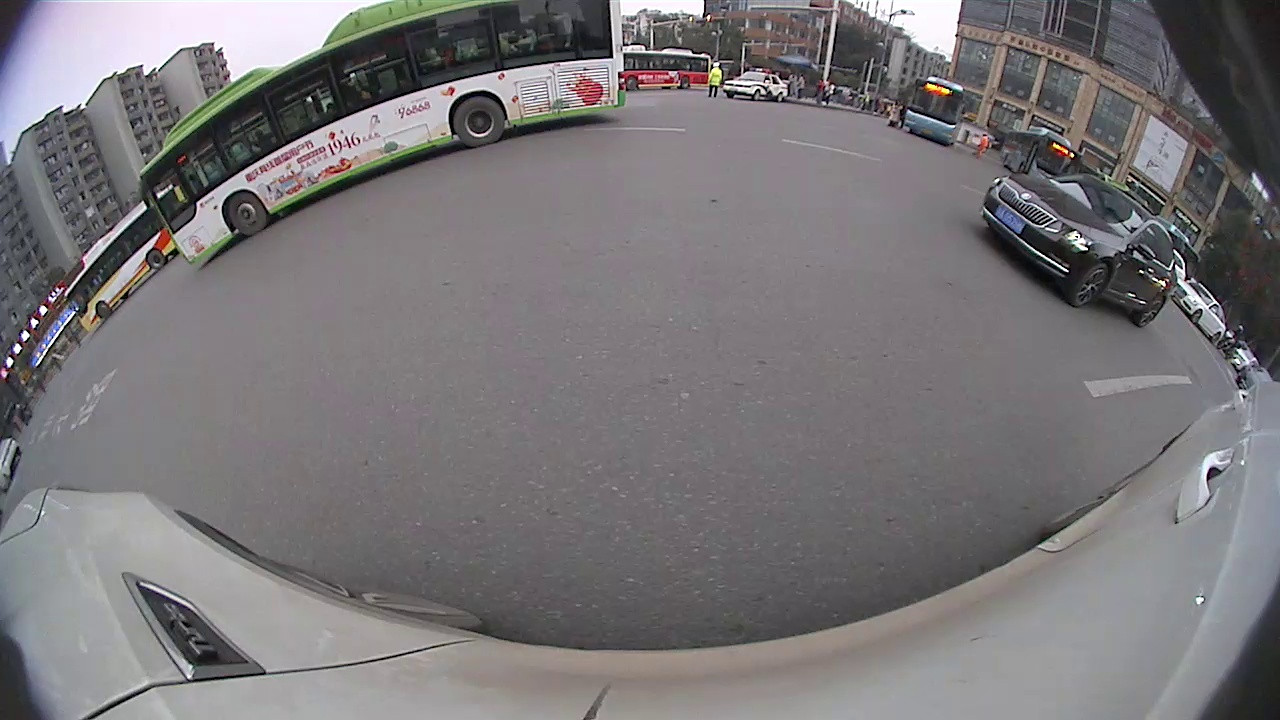bus: (136, 1, 624, 279), (58, 194, 178, 338), (998, 121, 1081, 179), (902, 73, 968, 145), (620, 43, 715, 93)
car: (977, 169, 1180, 331), (1170, 274, 1230, 348), (720, 64, 794, 104)
front: (220, 189, 270, 239), (1070, 262, 1110, 309)
person: (707, 56, 726, 100)
rear: (449, 94, 509, 147), (1135, 293, 1167, 333)
